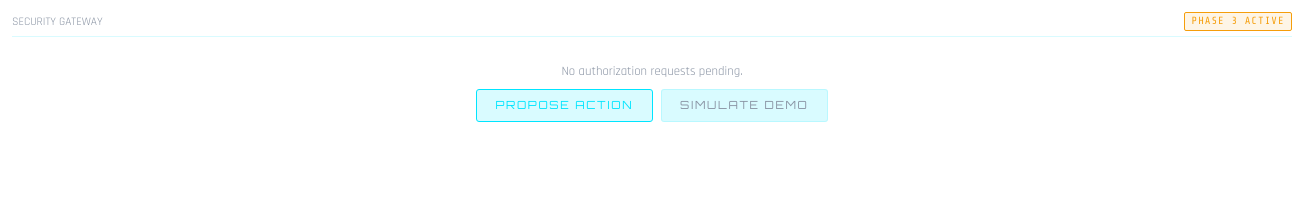
ApprovalPreviewPanel Component › renders simulated demo request when Simulate Demo button is clicked
What coordinates should you click on to do the following:
click the button "Simulate Demo"
I would click on:
 (744, 105)
Its box is [661,89,828,122].
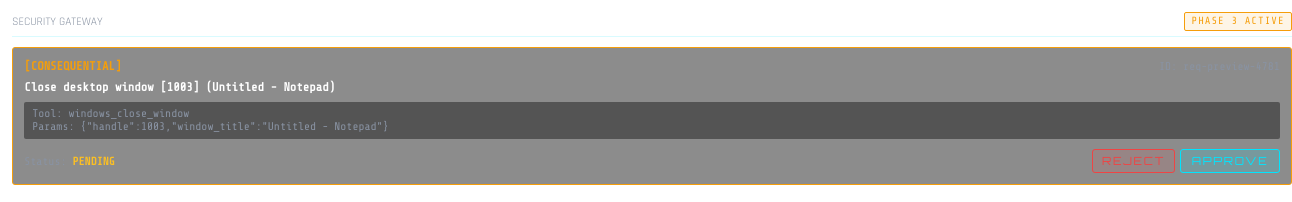
expect the text "[CONSEQUENTIAL]" is shown: met, box [24,59,121,73]
expect the text "Close desktop window [1003] (Untitled - Notepad)" is shown: met, box [24,80,335,94]
